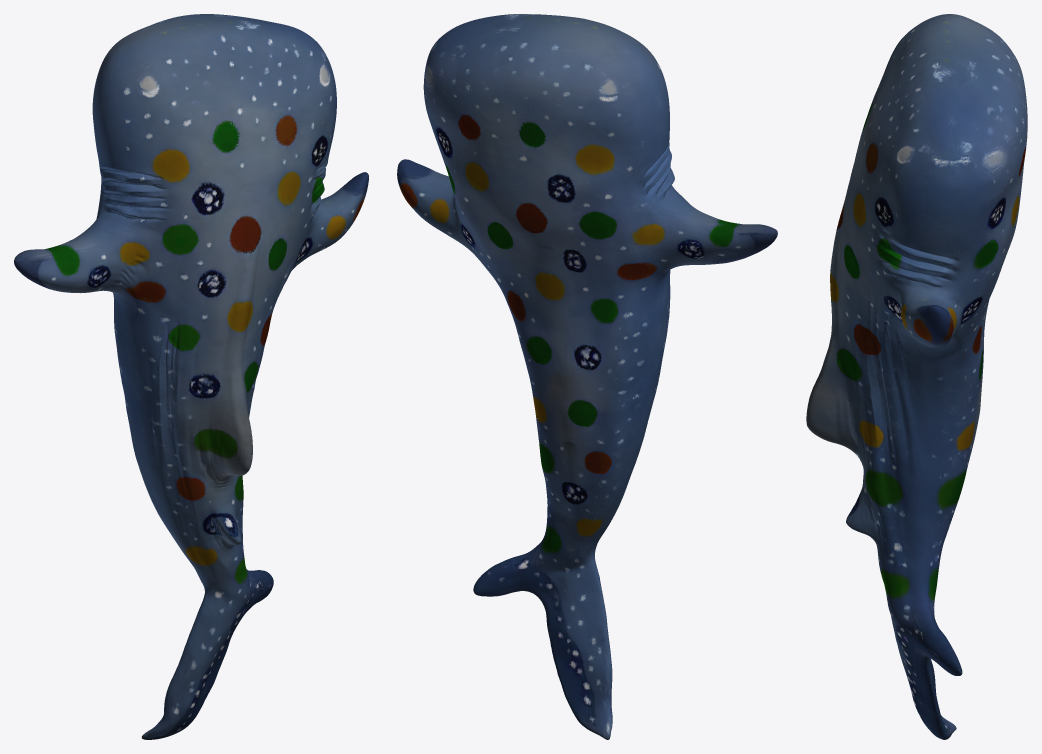
Rendered from whale.glb.
3 views of the same model, side by side, from view 1: azimuth 30°, elevation 25°; view 2: azimuth 150°, elevation 25°; view 3: azimuth 270°, elevation 25° (orthographic).
Bounding box in the file's own units: 0.543 × 1 × 0.28.
